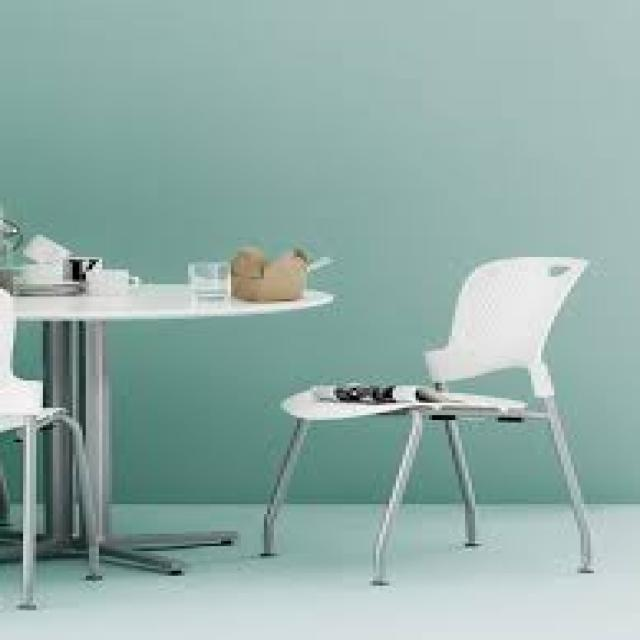chair: (219, 237, 640, 627)
